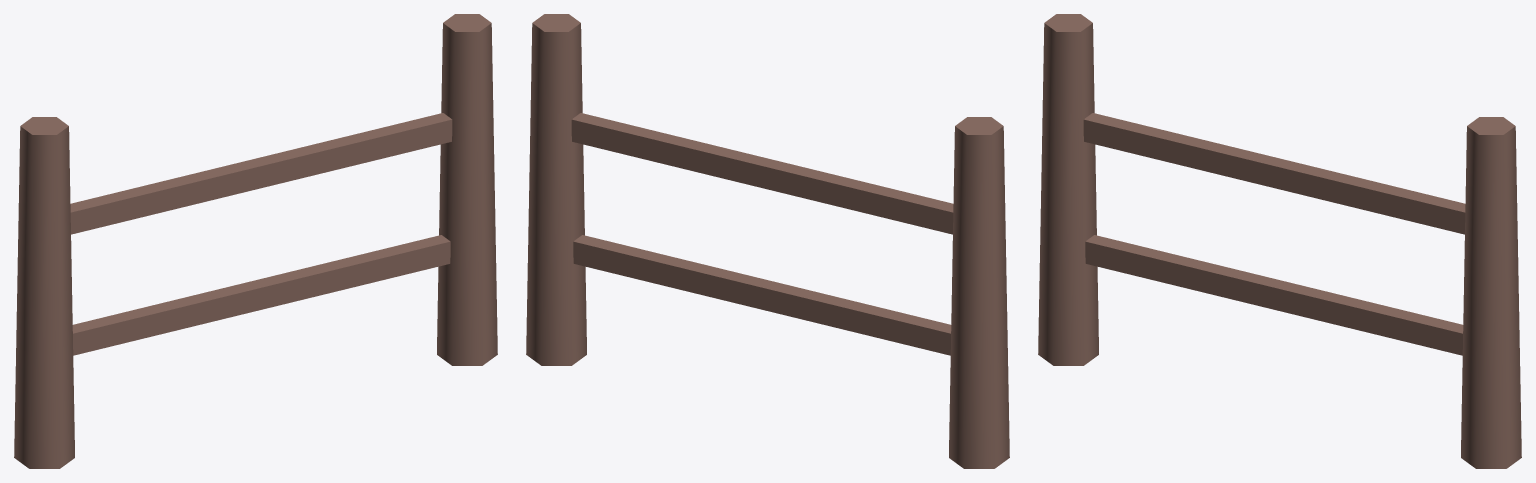
File: fence_simple.glb
3 renders of one model, left to right at view 1: azimuth 30°, elevation 25°; view 2: azimuth 150°, elevation 25°; view 3: azimuth 330°, elevation 25°, orthographic.
Parts seen in each view (by area): view 1: Kenney_Fence_Simple; view 2: Kenney_Fence_Simple; view 3: Kenney_Fence_Simple.
Part boxes in pixels (x1,y1,x2,y2): Kenney_Fence_Simple: [14, 14, 497, 468]; Kenney_Fence_Simple: [526, 14, 1009, 468]; Kenney_Fence_Simple: [1038, 14, 1521, 468].
Bounding box in the file's own units: 0.8866 × 0.6 × 0.1.
